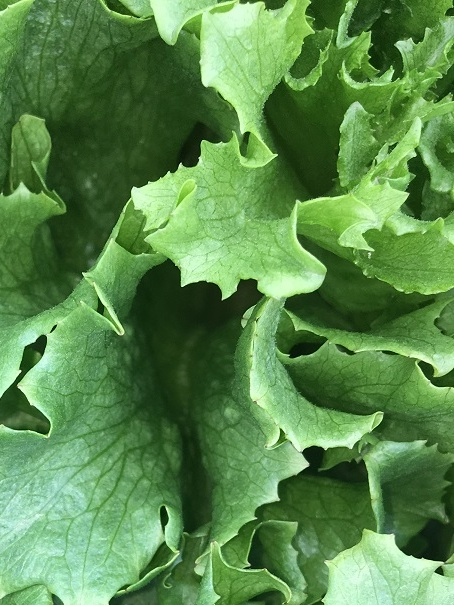tipburn: (113, 319, 130, 340), (249, 396, 264, 410), (205, 535, 221, 548), (86, 276, 103, 288), (248, 315, 262, 329), (258, 564, 273, 577), (260, 441, 274, 453)
